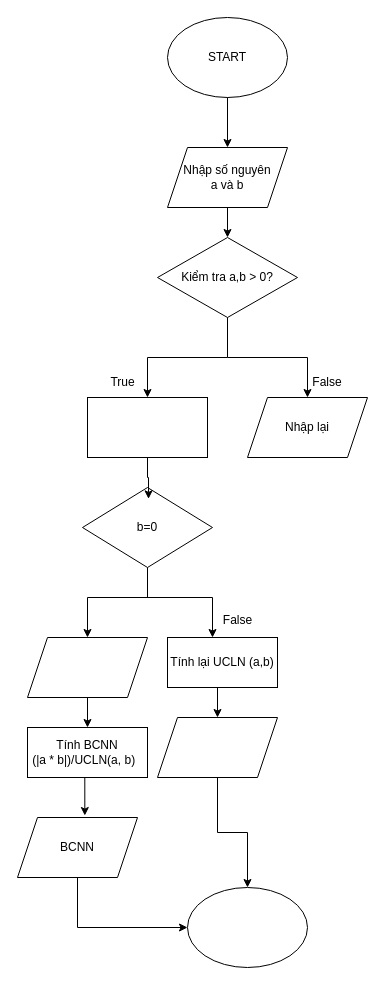
This 385x985 diagram has some shape labels left out. The centre of each missing label's shape, as x and y in pixels:
b = 0: (x=217, y=747)
END: (x=247, y=927)
Tính UCLN (a,b) = UCLN(b, a % b): (x=147, y=427)
UCLN(a, b) = a: (x=87, y=667)
